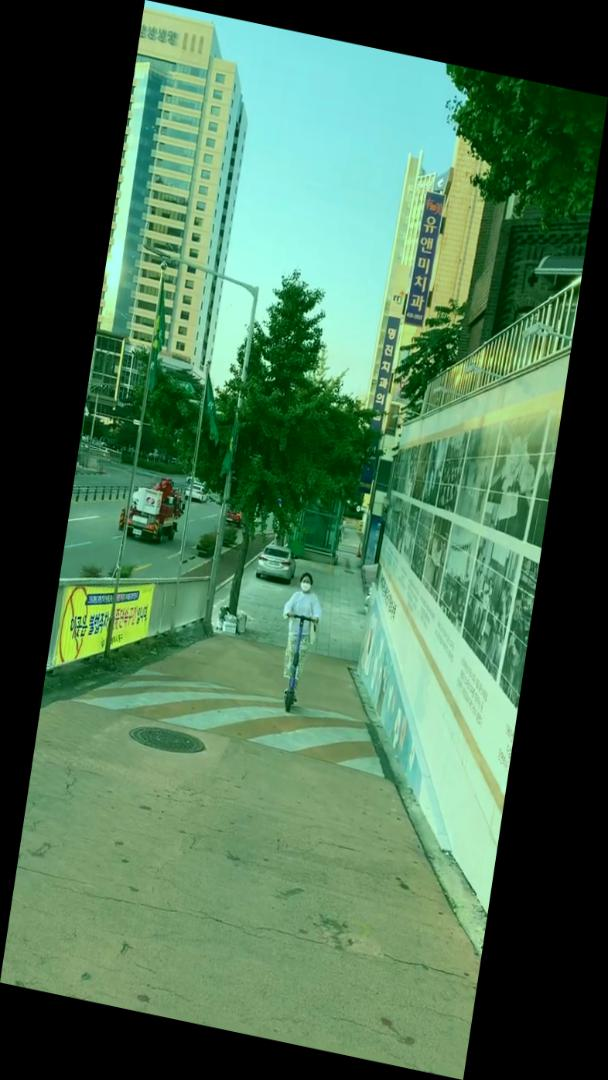nonhelmet: (267, 567, 330, 720)
